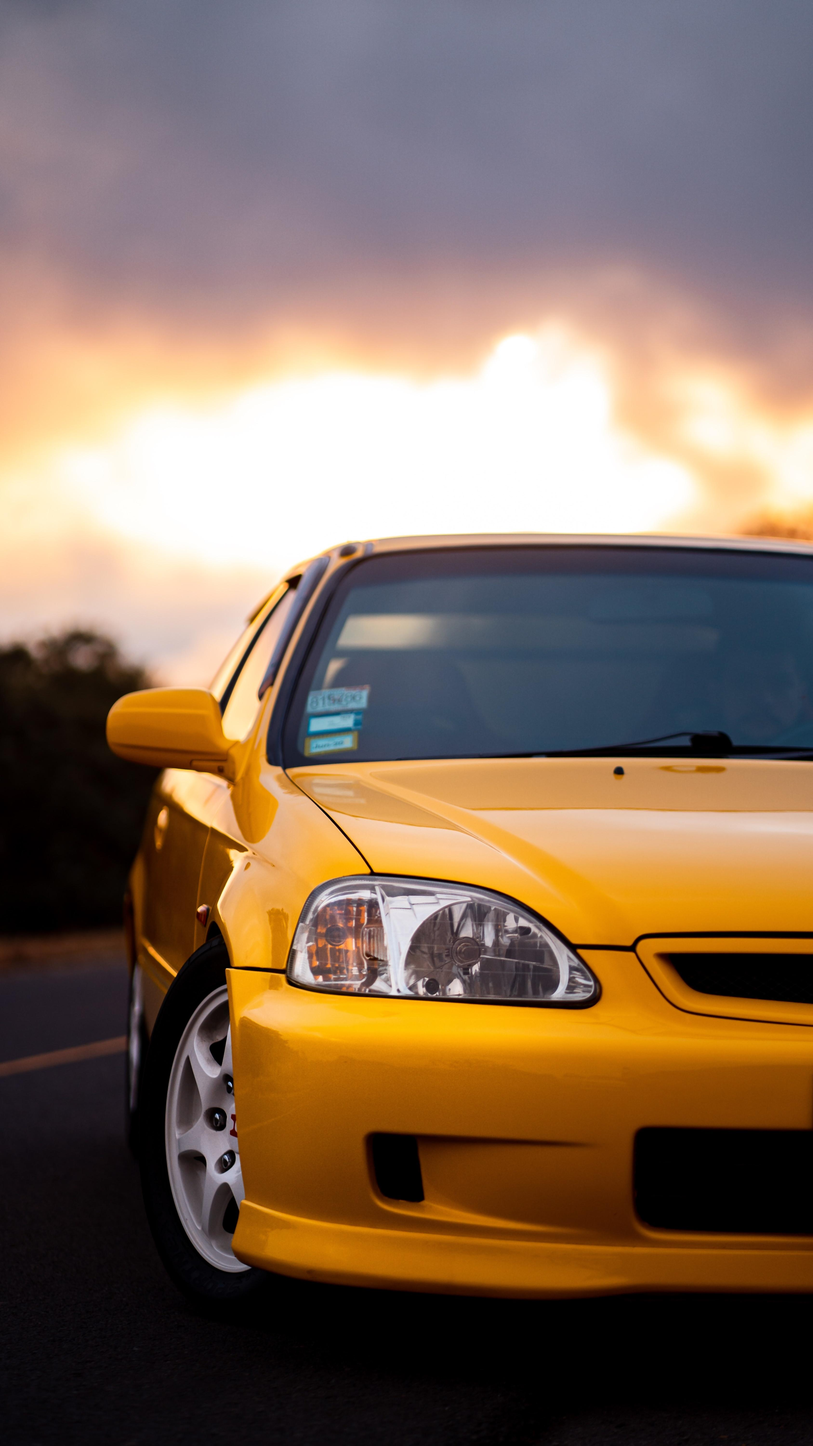Car hood: (280, 743, 813, 957)
Front bumper: (212, 957, 813, 1311)
Headlight - -L-: (277, 863, 607, 1018)
Side mirror - -R-: (89, 678, 252, 790)
